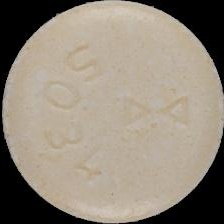0615-7577: (0, 0, 224, 224)
